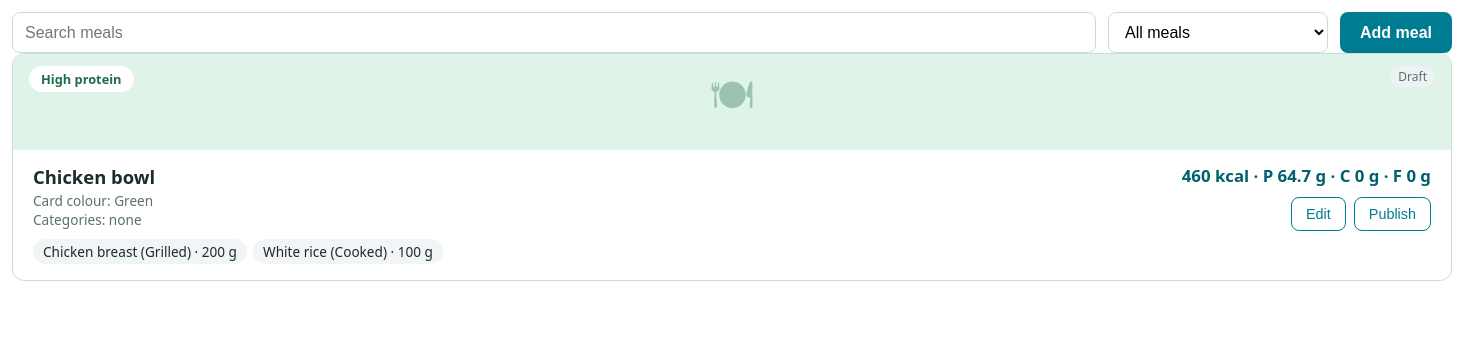
Scenario: MealsPage › refuses to publish a meal that uses a draft food
This screenshot has width=1464, height=341.
Click the button "Publish": (1392, 214) [1354,197,1431,231]
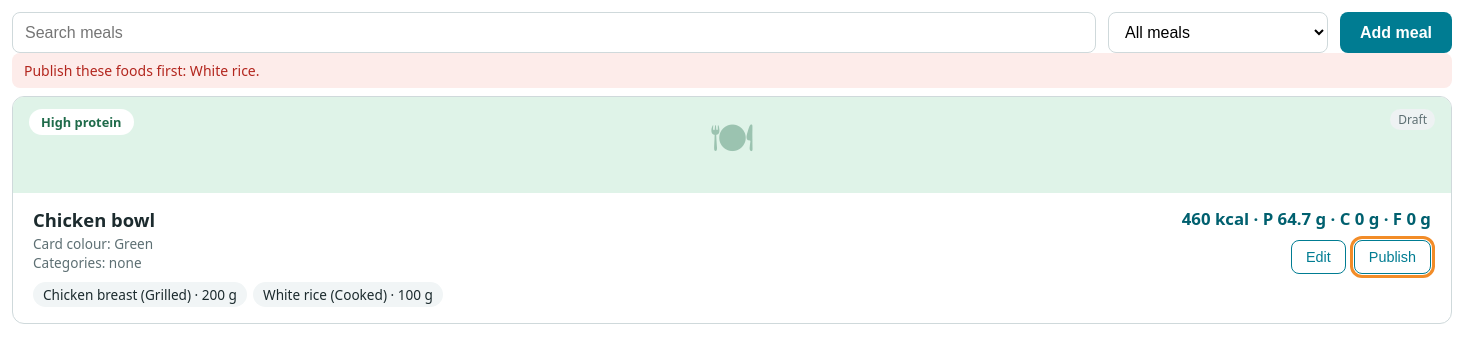
Now the message reads "Publish these foods first: White rice.", box [24,61,260,80]
